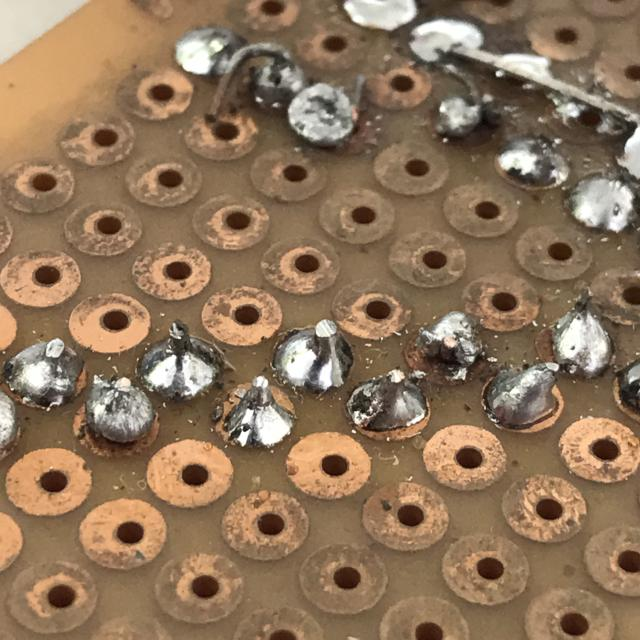good: (130, 328, 235, 408), (267, 322, 360, 398)
pad_less: (65, 375, 168, 470), (399, 310, 493, 392), (338, 370, 436, 448), (206, 376, 301, 454), (482, 364, 567, 438), (534, 308, 618, 381)
